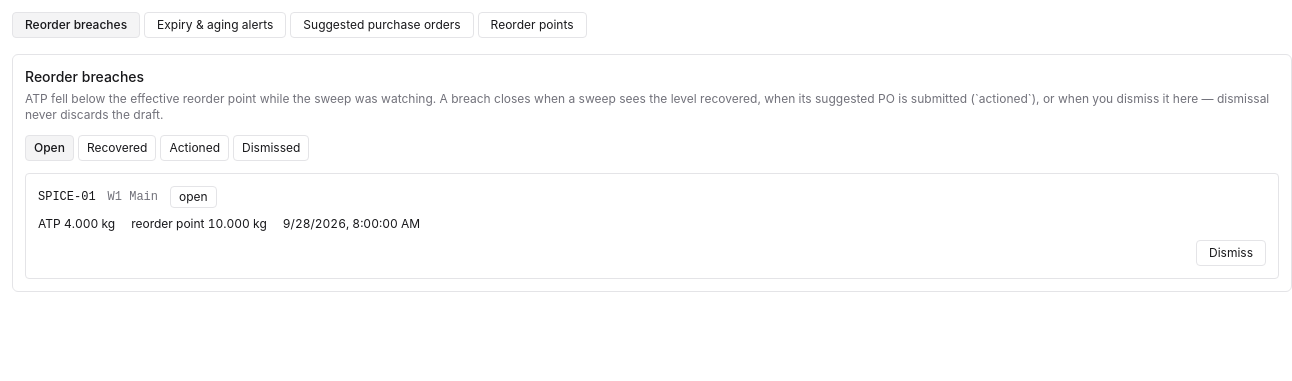
Test: ReplenishmentView: the breach queue (story 6-1) › a 409 breach-not-open renders the server's words verbatim AND re-reads the queue
This screenshot has width=1292, height=381.
Click the button "Dismiss" at (1231, 253), box [1196,240,1266,266]
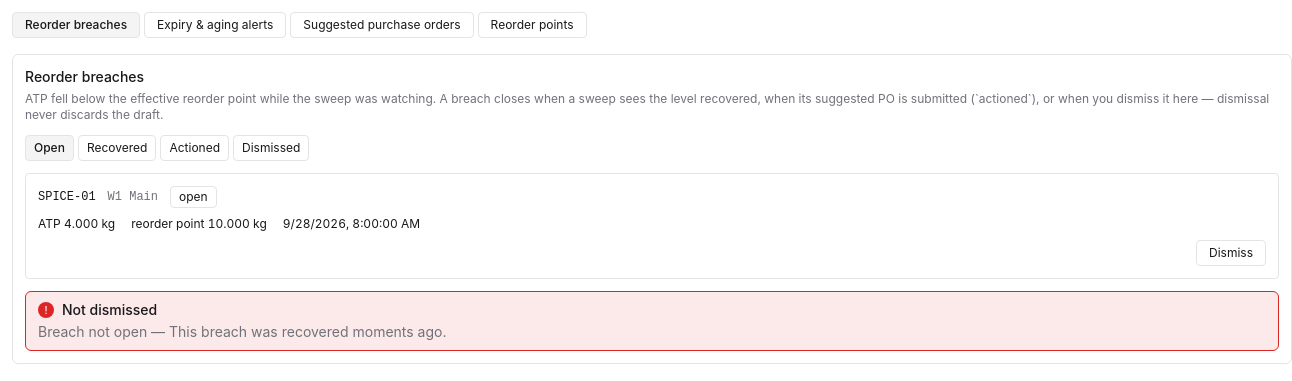
Check: the text "Breach not open" is shown, box [38,323,446,340]
Check: the text "This breach was recovered moments ago." is shown, box [38,323,446,340]
